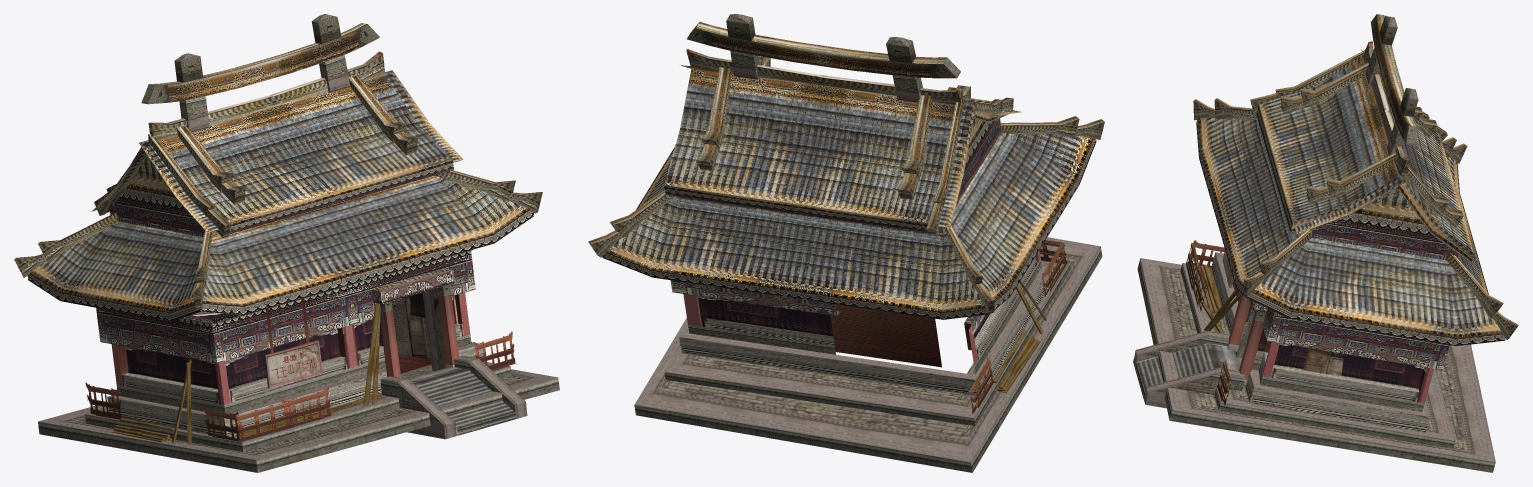
Rendered from japan_boatbuilding.fbx.
3 renders of one model, left to right at view 1: azimuth 30°, elevation 25°; view 2: azimuth 150°, elevation 25°; view 3: azimuth 270°, elevation 25°, orthographic. The views are drawn at different scales.
Parts seen in each view (by area): view 1: Object01, Object02; view 2: Object01, Object02; view 3: Object01, Object02.
Part boxes in pixels (<box>): Object01: <box>14,14,559,472</box>; Object02: <box>191,296,432,378</box>; Object01: <box>588,14,1104,472</box>; Object02: <box>830,304,941,367</box>; Object01: <box>1133,14,1518,472</box>; Object02: <box>1305,348,1343,375</box>.
Bounding box in the file's own units: 14.64 × 12.77 × 13.17.
Materials: 1 (1 with a texture image).
